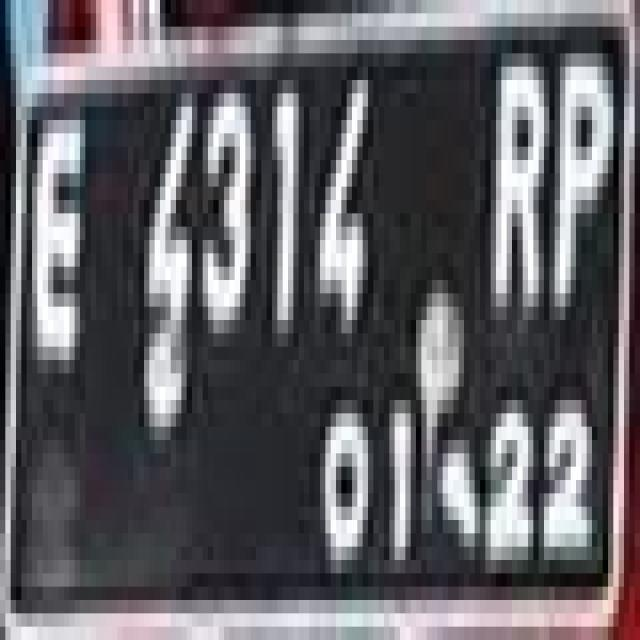1: (266, 67, 304, 360)
3: (198, 73, 262, 327)
4: (306, 66, 382, 346), (134, 86, 198, 326)
E: (26, 113, 90, 380)
P: (546, 46, 616, 326)
R: (486, 54, 544, 334)
